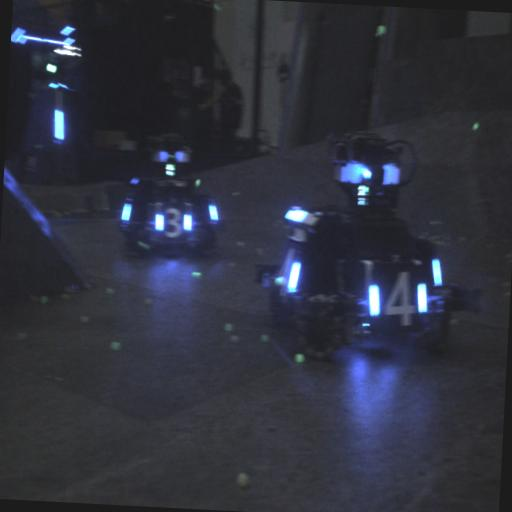target: (360, 264, 434, 343), (149, 200, 198, 252)
